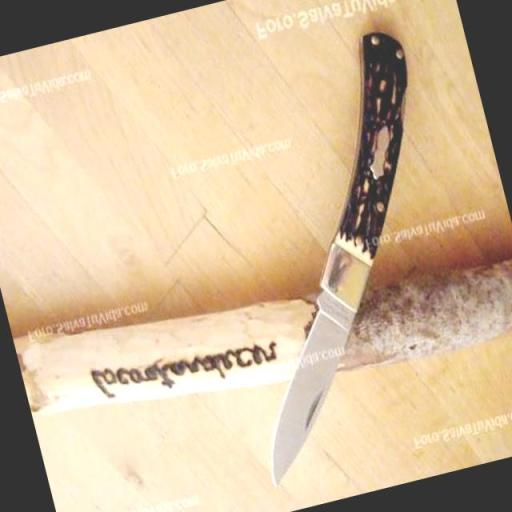knife: (176, 28, 498, 484)
